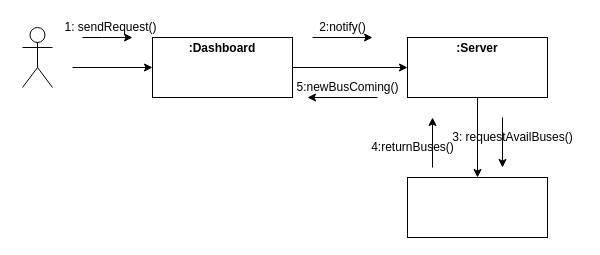
This 600x255 diagram has some shape labels left out. The centre of each missing label's shape, as x and y in pixels:
:Database: the point at 477,207
Student: the point at 37,57
